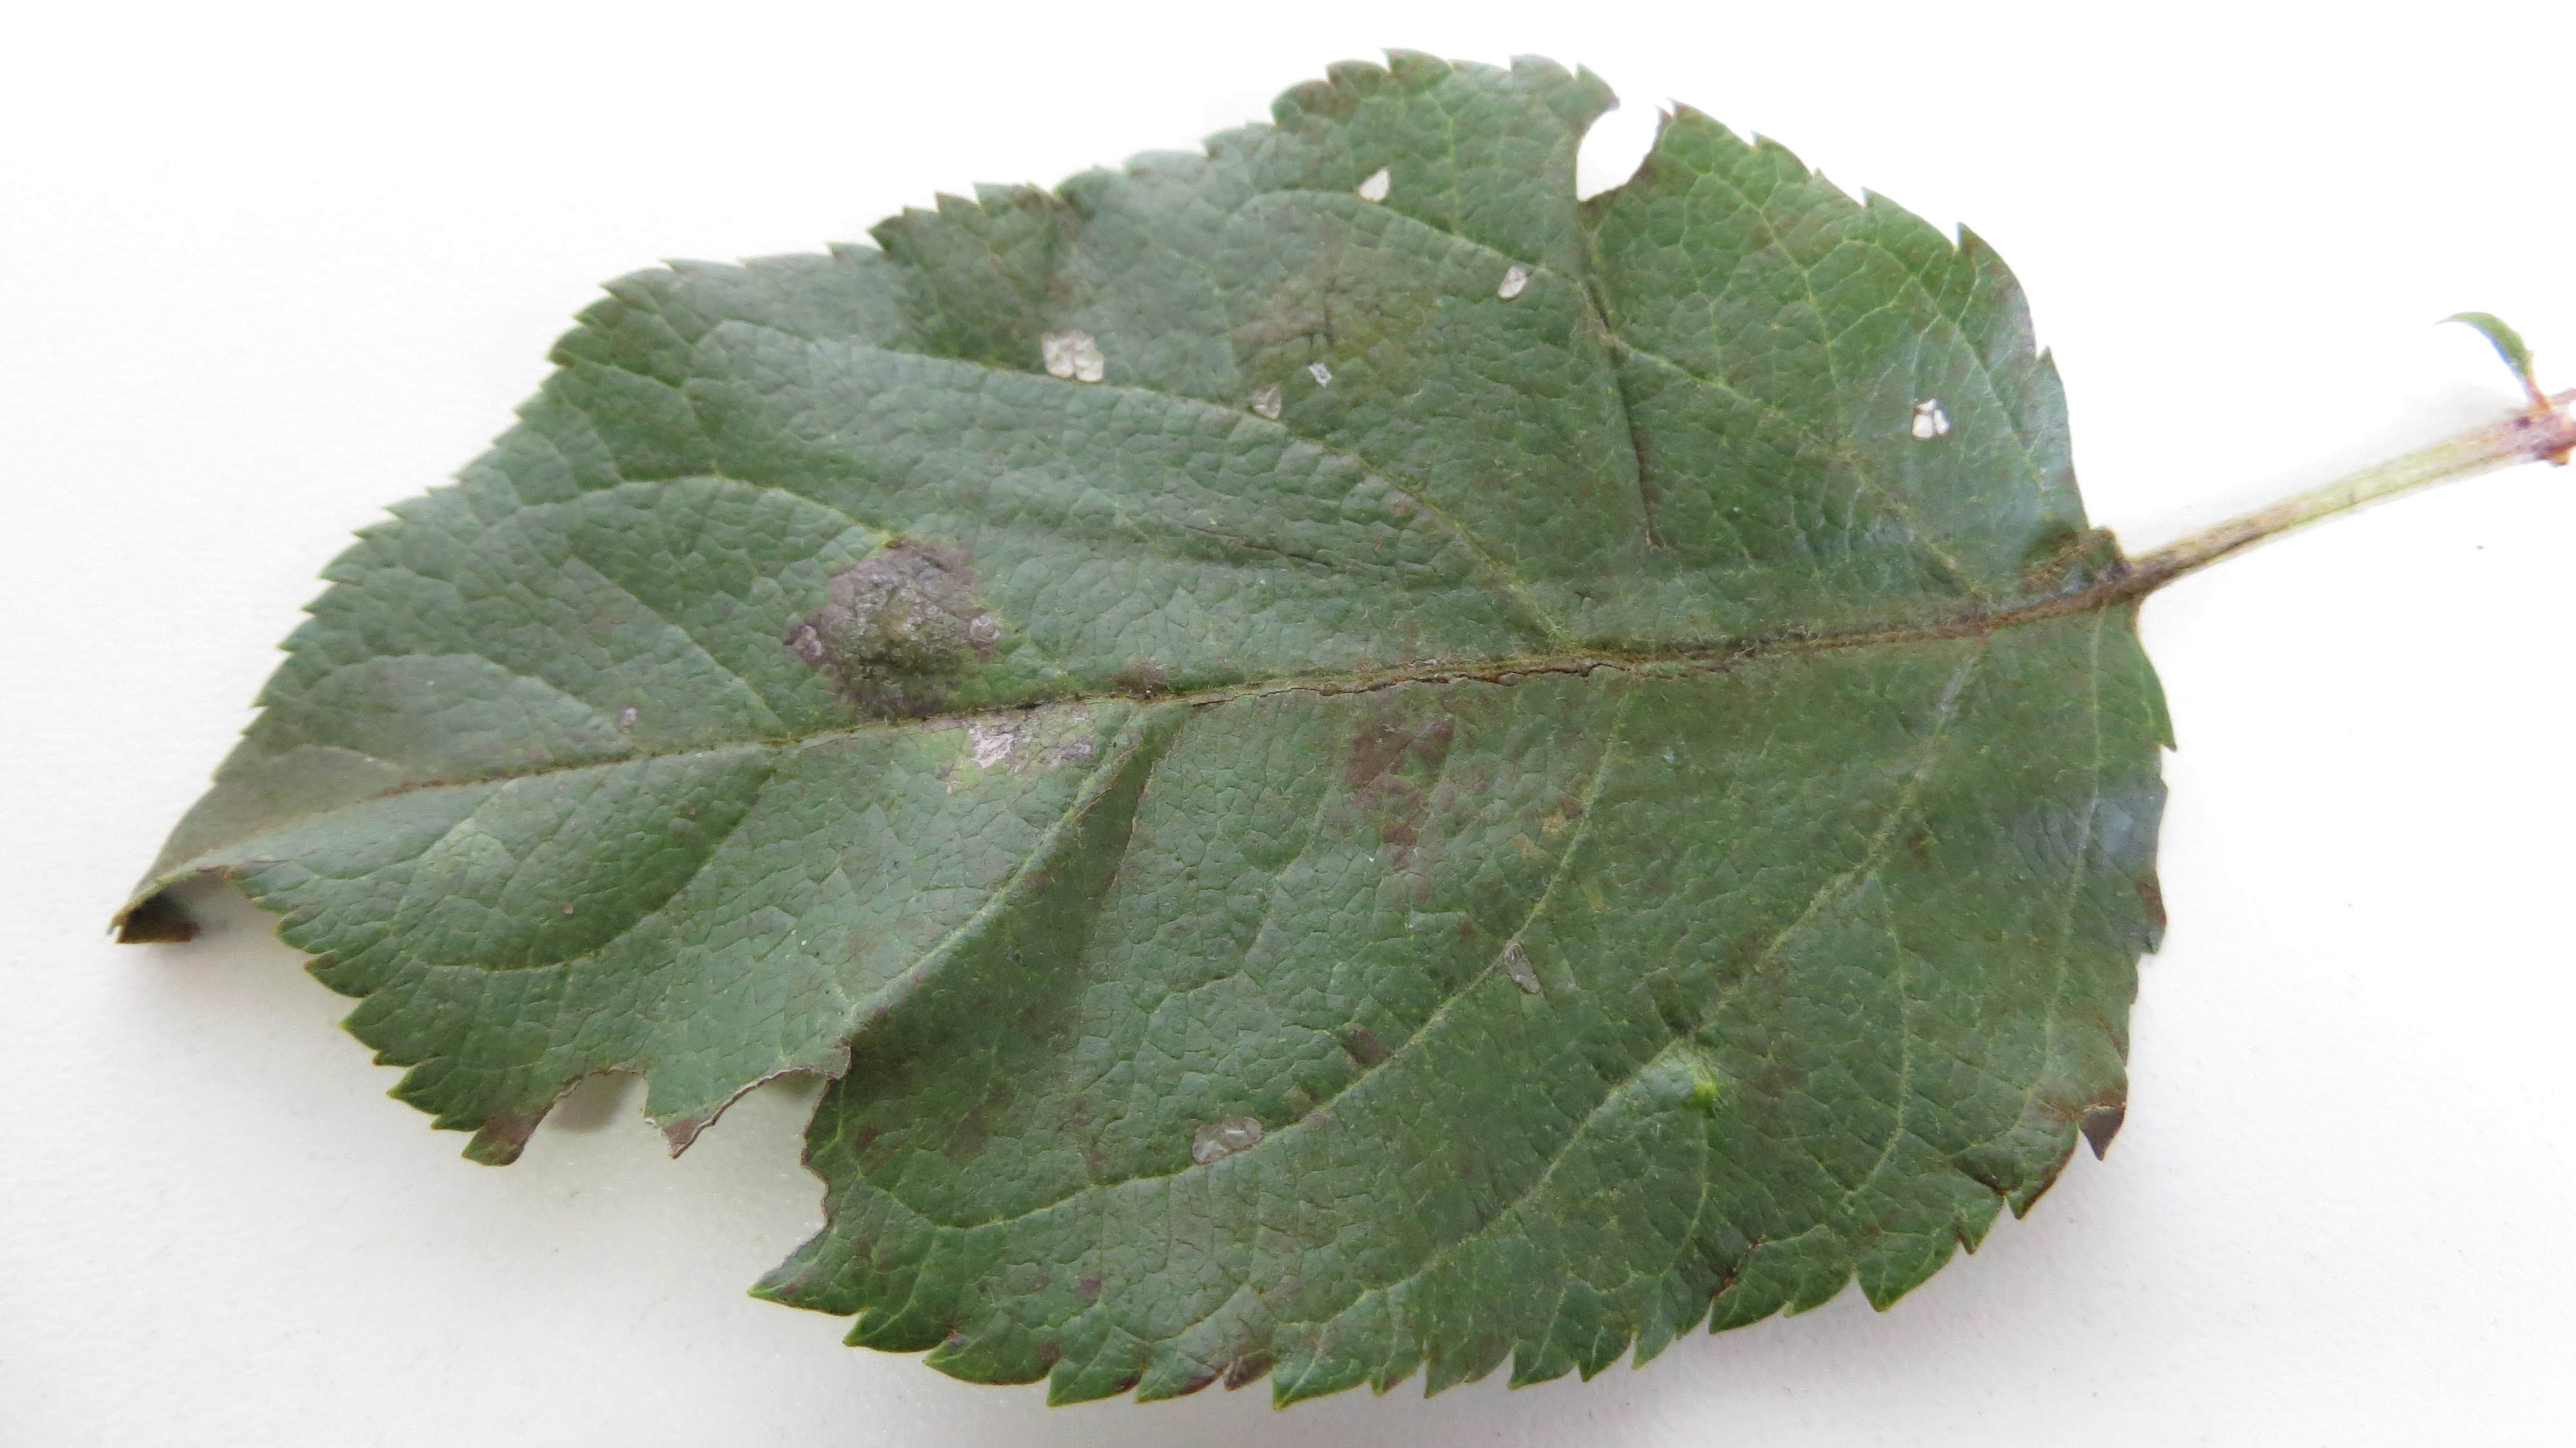sarna: (793, 512, 1021, 724), (1343, 620, 1490, 859), (1212, 250, 1424, 407), (1675, 896, 1828, 1101), (962, 678, 1116, 813), (1182, 1292, 1288, 1398), (1177, 1087, 1276, 1182), (1315, 1011, 1392, 1083), (1104, 637, 1177, 710)
